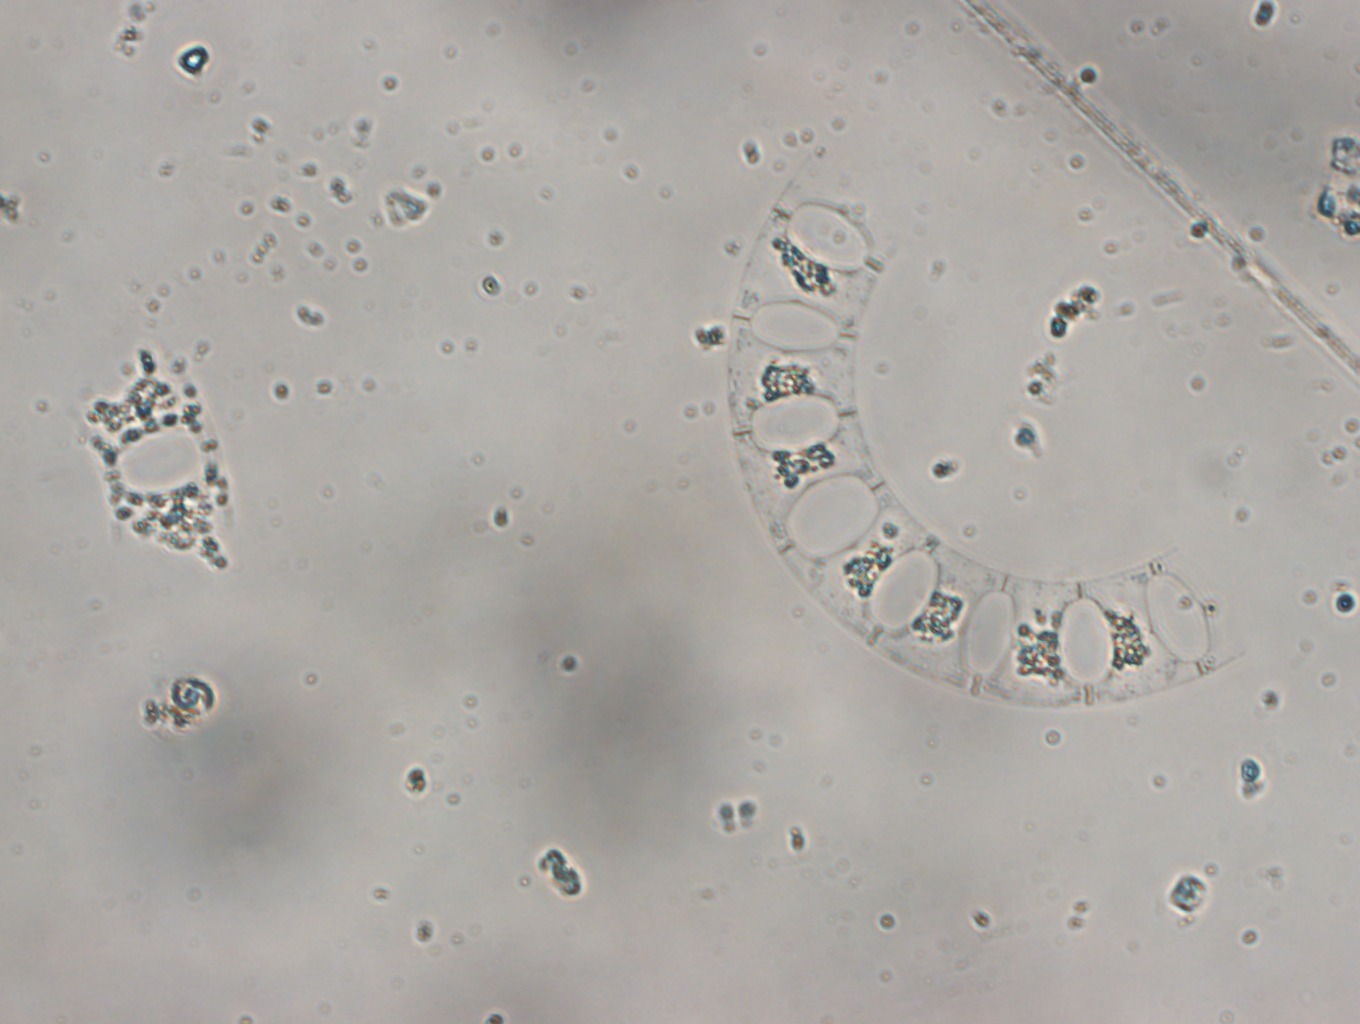eucampia: (729, 148, 1263, 714), (71, 328, 235, 565)
